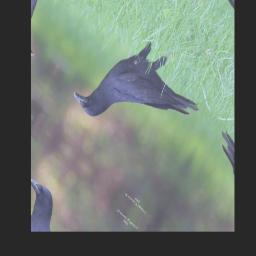Crow: (70, 1, 213, 185)
